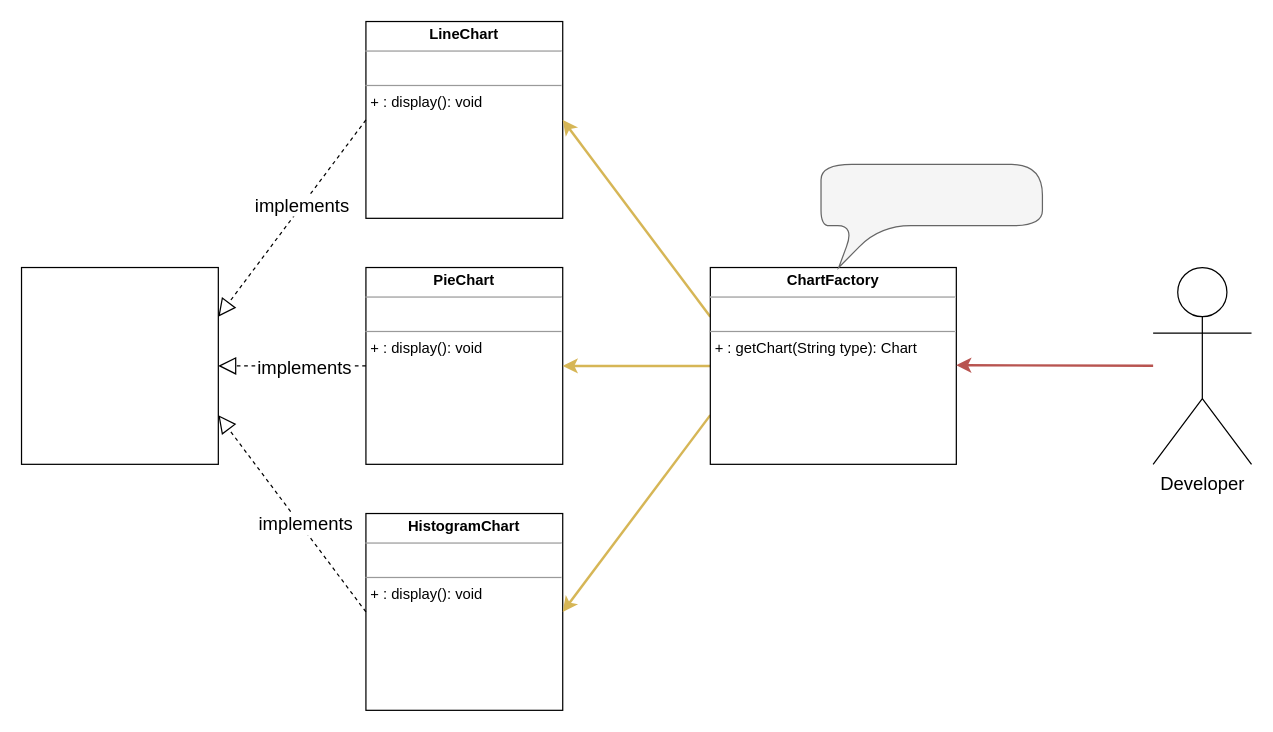
This 1273x732 diagram has some shape labels left out. Each missing label, with the centre of its shape:
"<<Interface>> Chart + display(): void" goes at (119,365).
"根据开发者传入的type 创建对应的Chart" goes at (931,215).
